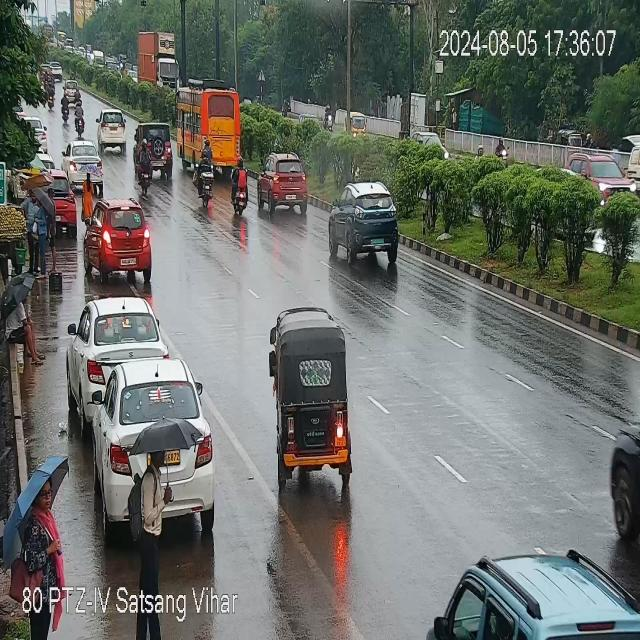2-wheelers: (226, 161, 252, 217), (193, 150, 220, 194), (63, 77, 86, 108), (62, 92, 72, 124)
auto: (266, 309, 353, 474)
bus: (174, 87, 251, 172)
car: (76, 360, 215, 526), (392, 554, 640, 638), (70, 297, 161, 406), (86, 191, 150, 274), (331, 188, 399, 262), (565, 145, 634, 198), (260, 162, 312, 218), (138, 125, 177, 180), (96, 111, 128, 151), (414, 131, 449, 166)
pedestrian: (135, 436, 178, 600), (17, 472, 65, 590), (3, 277, 46, 364), (24, 188, 49, 266), (83, 176, 97, 220)
truck: (136, 21, 183, 92)
